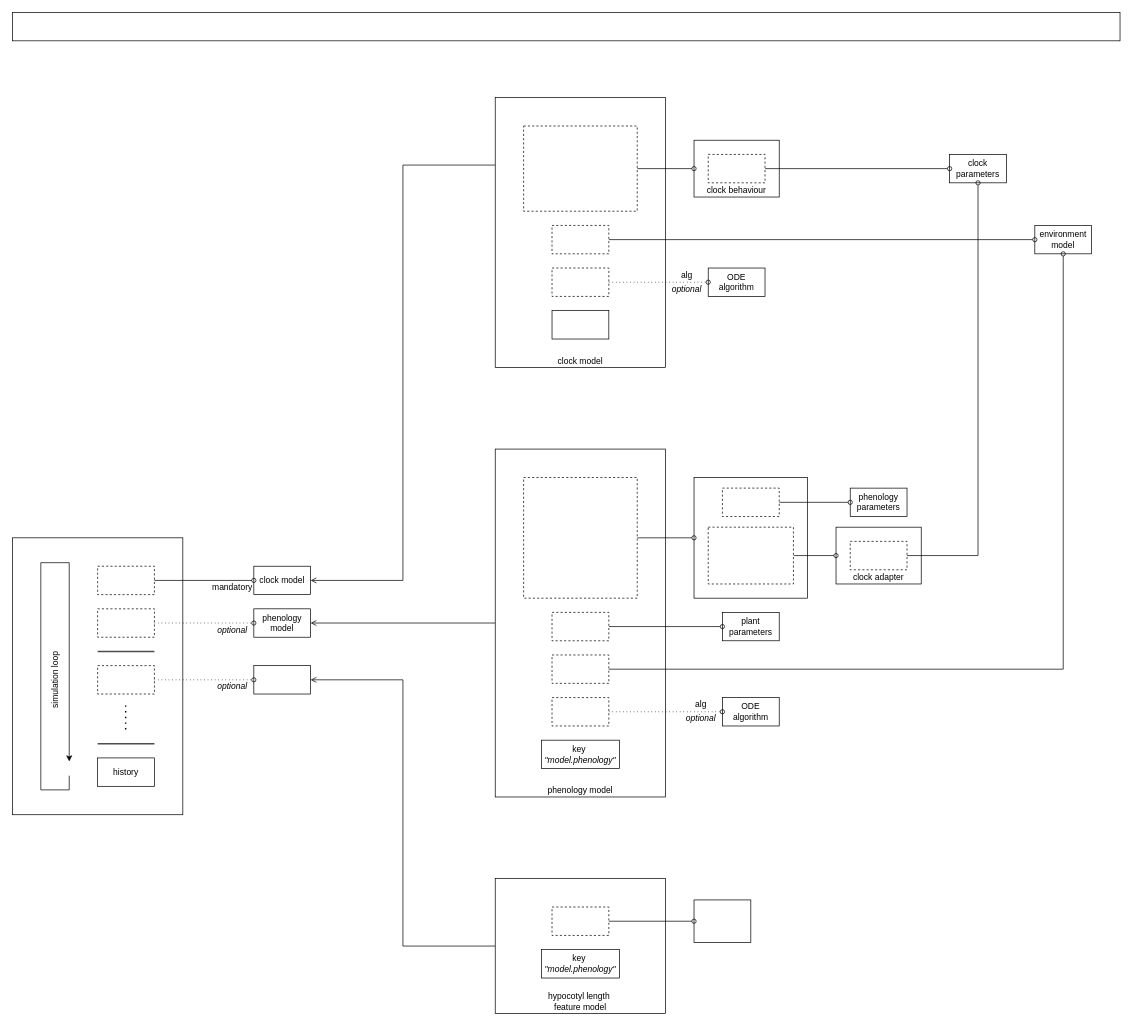
This 1132x1026 diagram has some shape labels left out. Each missing label, with the box of its shape:
feature model: (253, 665, 311, 694)
hypocotyl length parameters: (693, 899, 751, 943)
key "model.clock": (551, 310, 609, 339)
phenology behaviour: (693, 477, 808, 598)
plant model: (12, 537, 183, 815)
Simulation Structure: (12, 12, 1120, 41)
